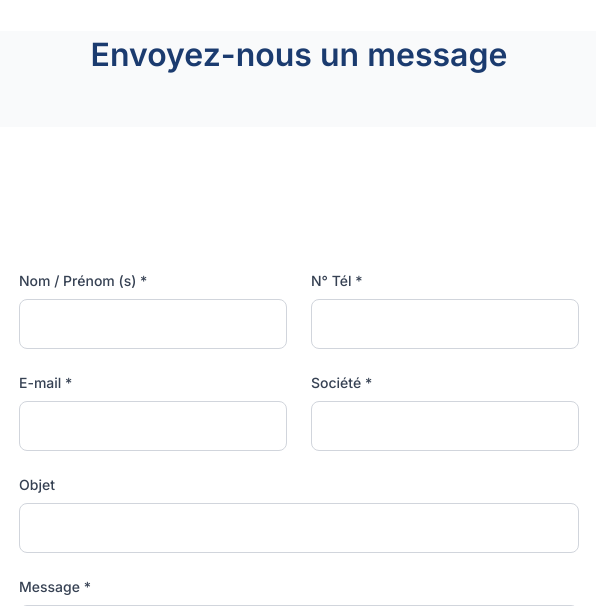
Test: ContactForm — client validation is UX › shows a field error instead of submitting an invalid form
Type "pas-une-adresse" into the field labelled "E-mail *".
click(153, 426); type("pas-une-adresse")  # box [19,401,287,451]
(page scrolled)
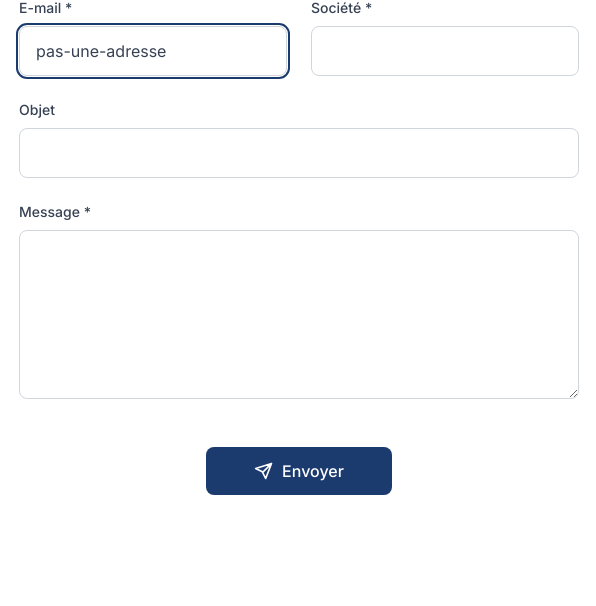
Click the button "Envoyer".
click(299, 471)  # box [206,447,392,495]
(page scrolled)
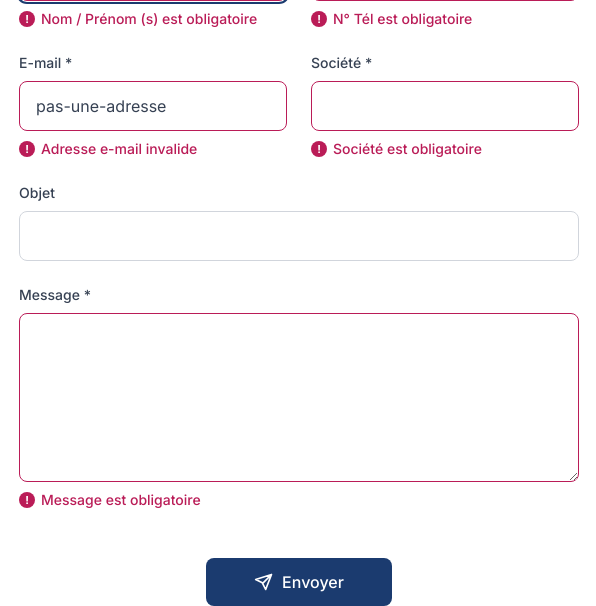
Expected: the text "Adresse e-mail invalide" is shown, [41,140,197,157]
